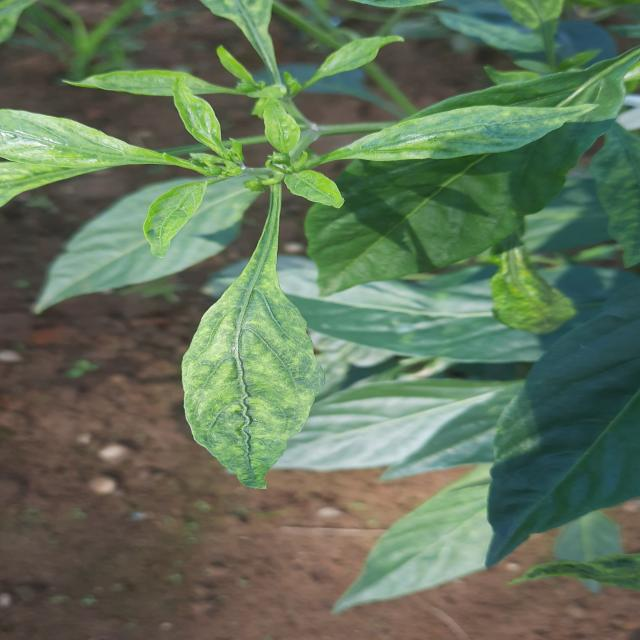thrips: (176, 224, 358, 485), (333, 98, 594, 172)
